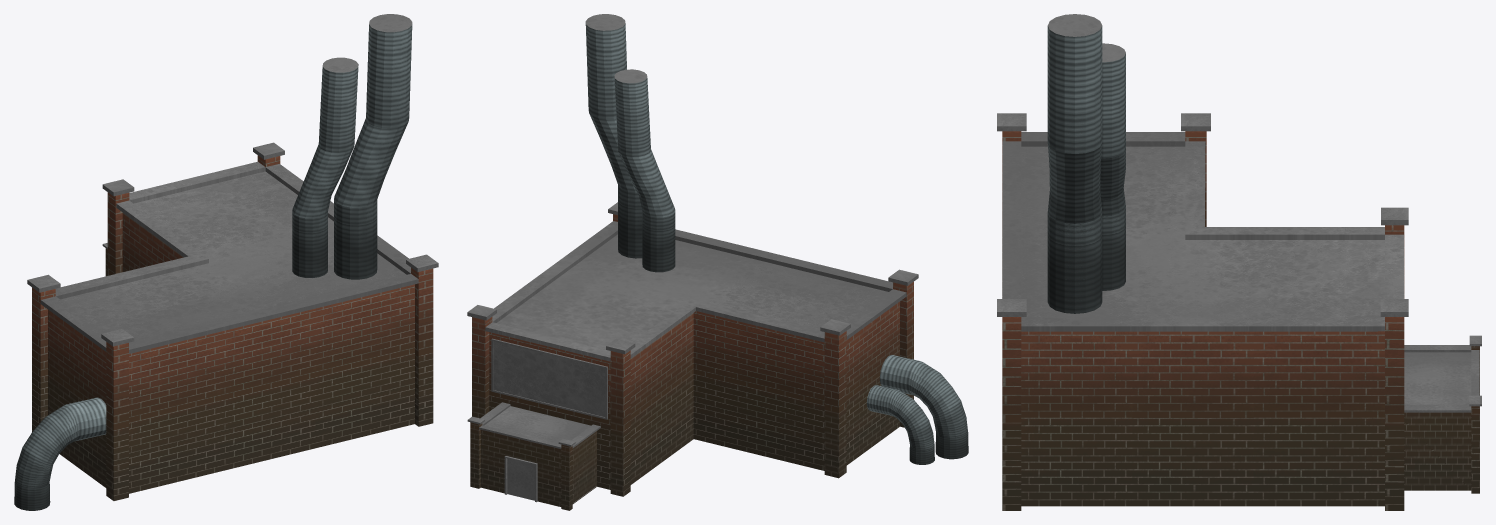
Rendered from fabrica_model_ building.fbx.
The picture shows the model from 3 angles, left to right: view 1: azimuth 30°, elevation 25°; view 2: azimuth 150°, elevation 25°; view 3: azimuth 270°, elevation 25°; orthographic projection. The views are drawn at different scales.
Parts seen in each view (by area): view 1: Cubo; view 2: Cubo; view 3: Cubo.
Boxes of the visible parts, x1,y1,x2,y2 form: Cubo: [14, 14, 438, 510]; Cubo: [467, 14, 968, 510]; Cubo: [997, 14, 1481, 510].
Bounding box in the file's own units: 9.86 × 9 × 8.25.
